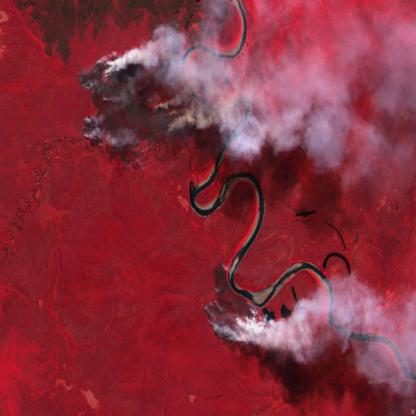fire: (73, 40, 199, 169), (200, 258, 262, 354)
